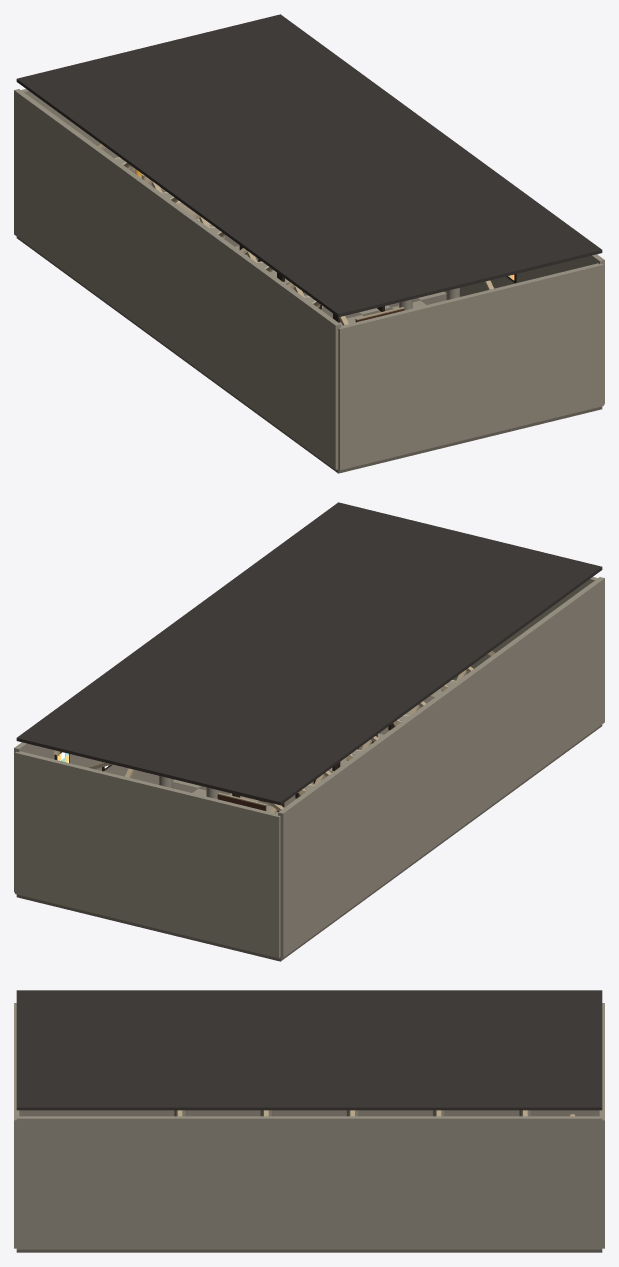
Rendered from stephen.glb.
3 views of the same model, one above another, from view 1: azimuth 30°, elevation 25°; view 2: azimuth 150°, elevation 25°; view 3: azimuth 270°, elevation 25° (orthographic). The views are drawn at different scales.
Bounding box in the file's own units: 18.35 × 10.38 × 38.35.
